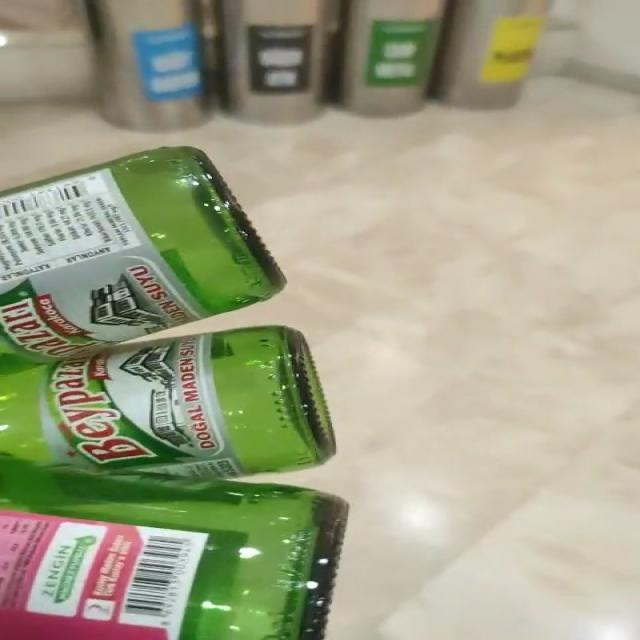Glass: (1, 148, 348, 640)
